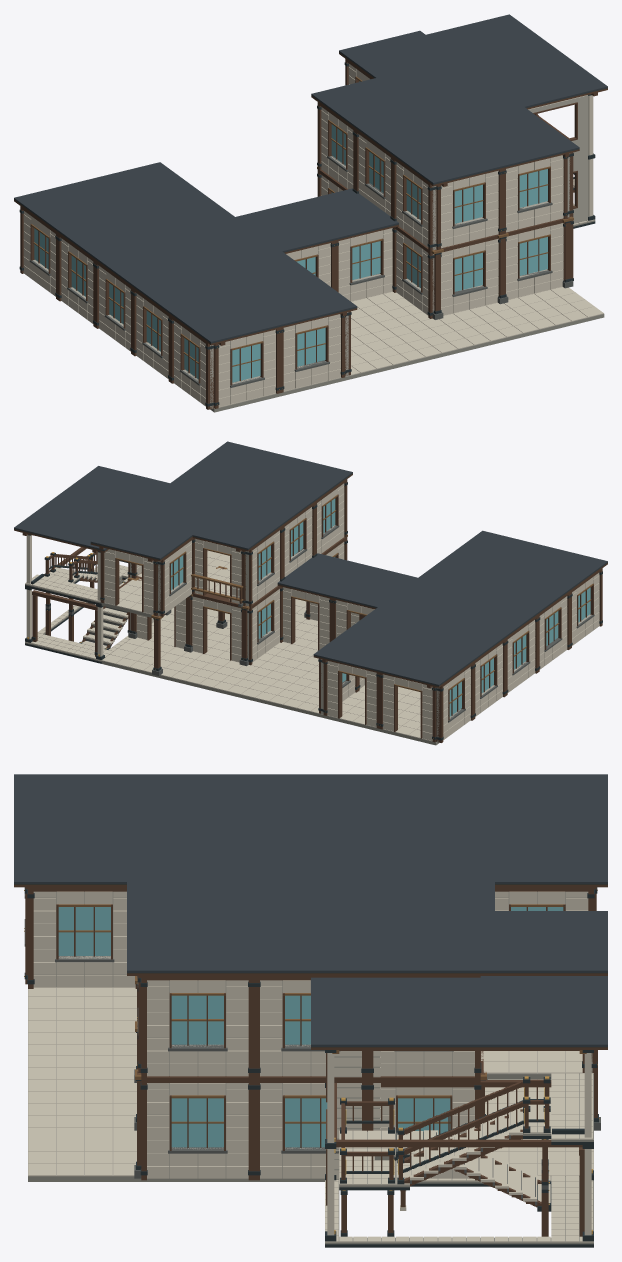
3 renders of one model, top to bottom at view 1: azimuth 30°, elevation 25°; view 2: azimuth 150°, elevation 25°; view 3: azimuth 270°, elevation 25°, orthographic. The views are drawn at different scales.
Parts seen in each view (by area): view 1: 连续屋面 · flat (×5), 真实窗洞与玻璃 (×17), 石铺面与混凝土楼板 (×5), 服务翼侧出口派生 · 原母版另存, 木柱、石础与金属抱箍; view 2: 连续屋面 · flat (×5), 真实窗洞与玻璃 (×11), 石铺面与混凝土楼板 (×12), 真实门洞墙 (×8), 服务翼侧出口派生 · 原母版另存, 共享双跑回行踏步, 共享双跑上行踏步, 廊边木栏与实际竖梃, 木柱、石础与金属抱箍; view 3: 连续屋面 · flat (×4), 真实窗洞与玻璃 (×8), 石铺面与混凝土楼板 (×7), 服务翼侧出口派生 · 原母版另存, 共享双跑回行踏步, 共享楼梯半转平台, 共享双跑上行踏步.
Boxes of the visible parts, x1,y1,x2,y2 form: 连续屋面 · flat (×5): [14, 14, 607, 345]; 真实窗洞与玻璃 (×17): [19, 102, 568, 409]; 石铺面与混凝土楼板 (×5): [344, 287, 604, 380]; 服务翼侧出口派生 · 原母版另存: [528, 94, 595, 228]; 木柱、石础与金属抱箍: [431, 249, 443, 319]; 连续屋面 · flat (×5): [14, 441, 607, 688]; 真实窗洞与玻璃 (×11): [157, 479, 602, 742]; 石铺面与混凝土楼板 (×12): [101, 568, 439, 745]; 真实门洞墙 (×8): [100, 538, 436, 742]; 服务翼侧出口派生 · 原母版另存: [25, 534, 173, 663]; 共享双跑回行踏步: [44, 552, 97, 614]; 共享双跑上行踏步: [79, 581, 128, 649]; 廊边木栏与实际竖梃: [191, 574, 243, 607]; 木柱、石础与金属抱箍: [151, 614, 163, 675]; 连续屋面 · flat (×4): [14, 774, 607, 1053]; 真实窗洞与玻璃 (×8): [27, 887, 594, 1180]; 石铺面与混凝土楼板 (×7): [28, 987, 593, 1181]; 服务翼侧出口派生 · 原母版另存: [325, 1050, 593, 1247]; 共享双跑回行踏步: [396, 1076, 551, 1190]; 共享楼梯半转平台: [339, 1097, 395, 1236]; 共享双跑上行踏步: [396, 1130, 551, 1211].
Size of the model in its own units: 24.4 by 6.78 by 16.8.
17 materials, 17 textured.
